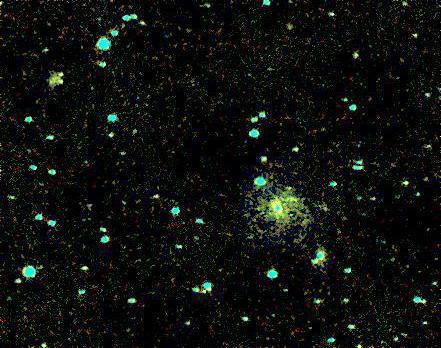star: (280, 182, 310, 212)
